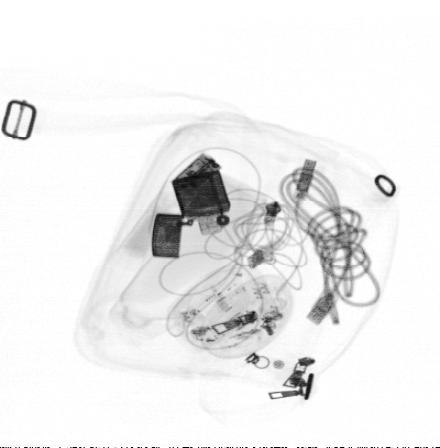Lighter: (151, 170, 232, 259)
